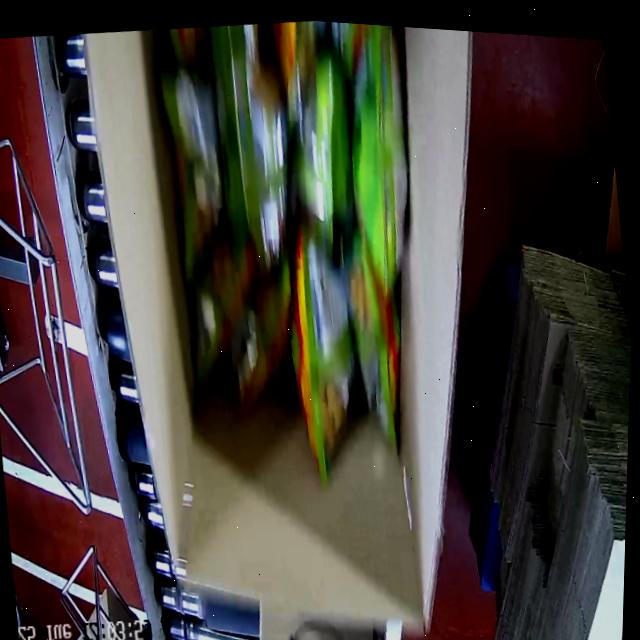YOGURT_HERB: (141, 10, 468, 519)
